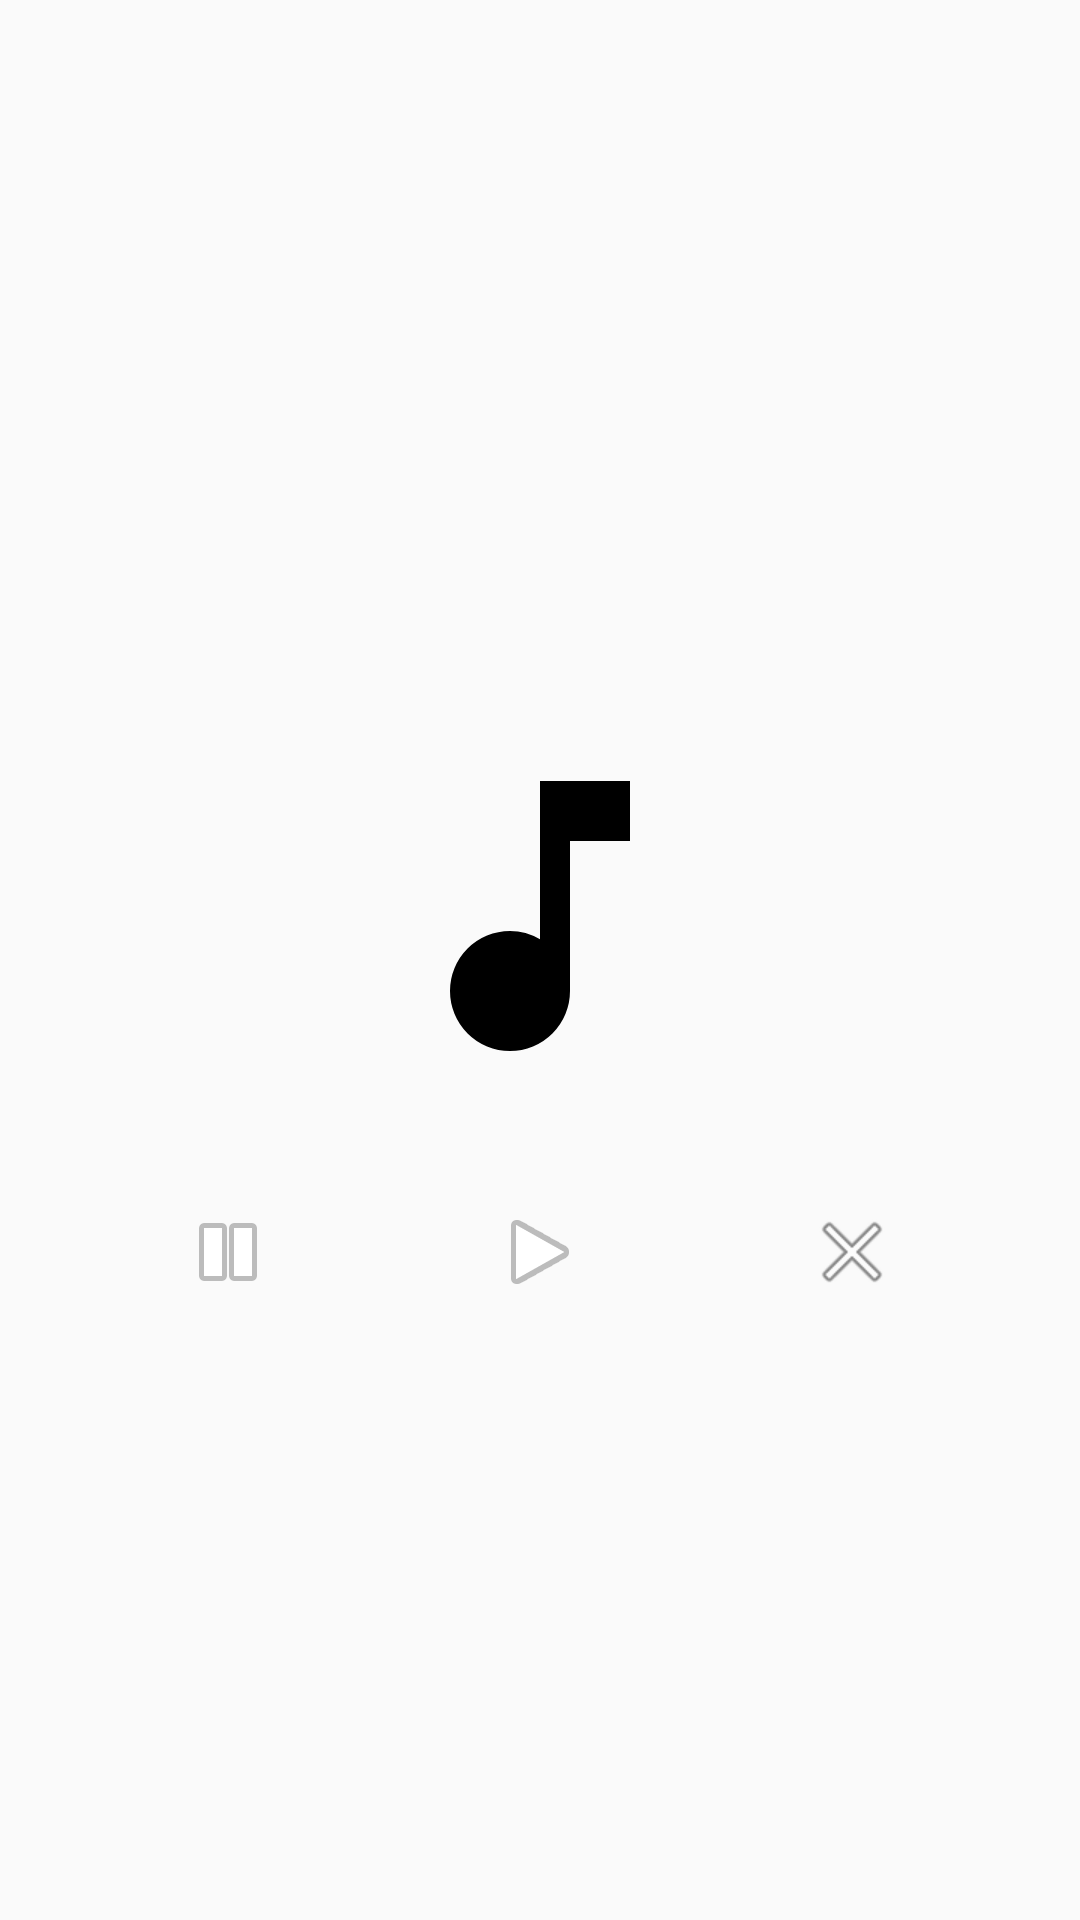

Point at icon controls on the screen. Image size 1080*1920, points as point (x, y).
Music Icon: point (540, 916)
Выход: point (852, 1252)
Пауза: point (228, 1252)
Продолжить: point (540, 1252)
